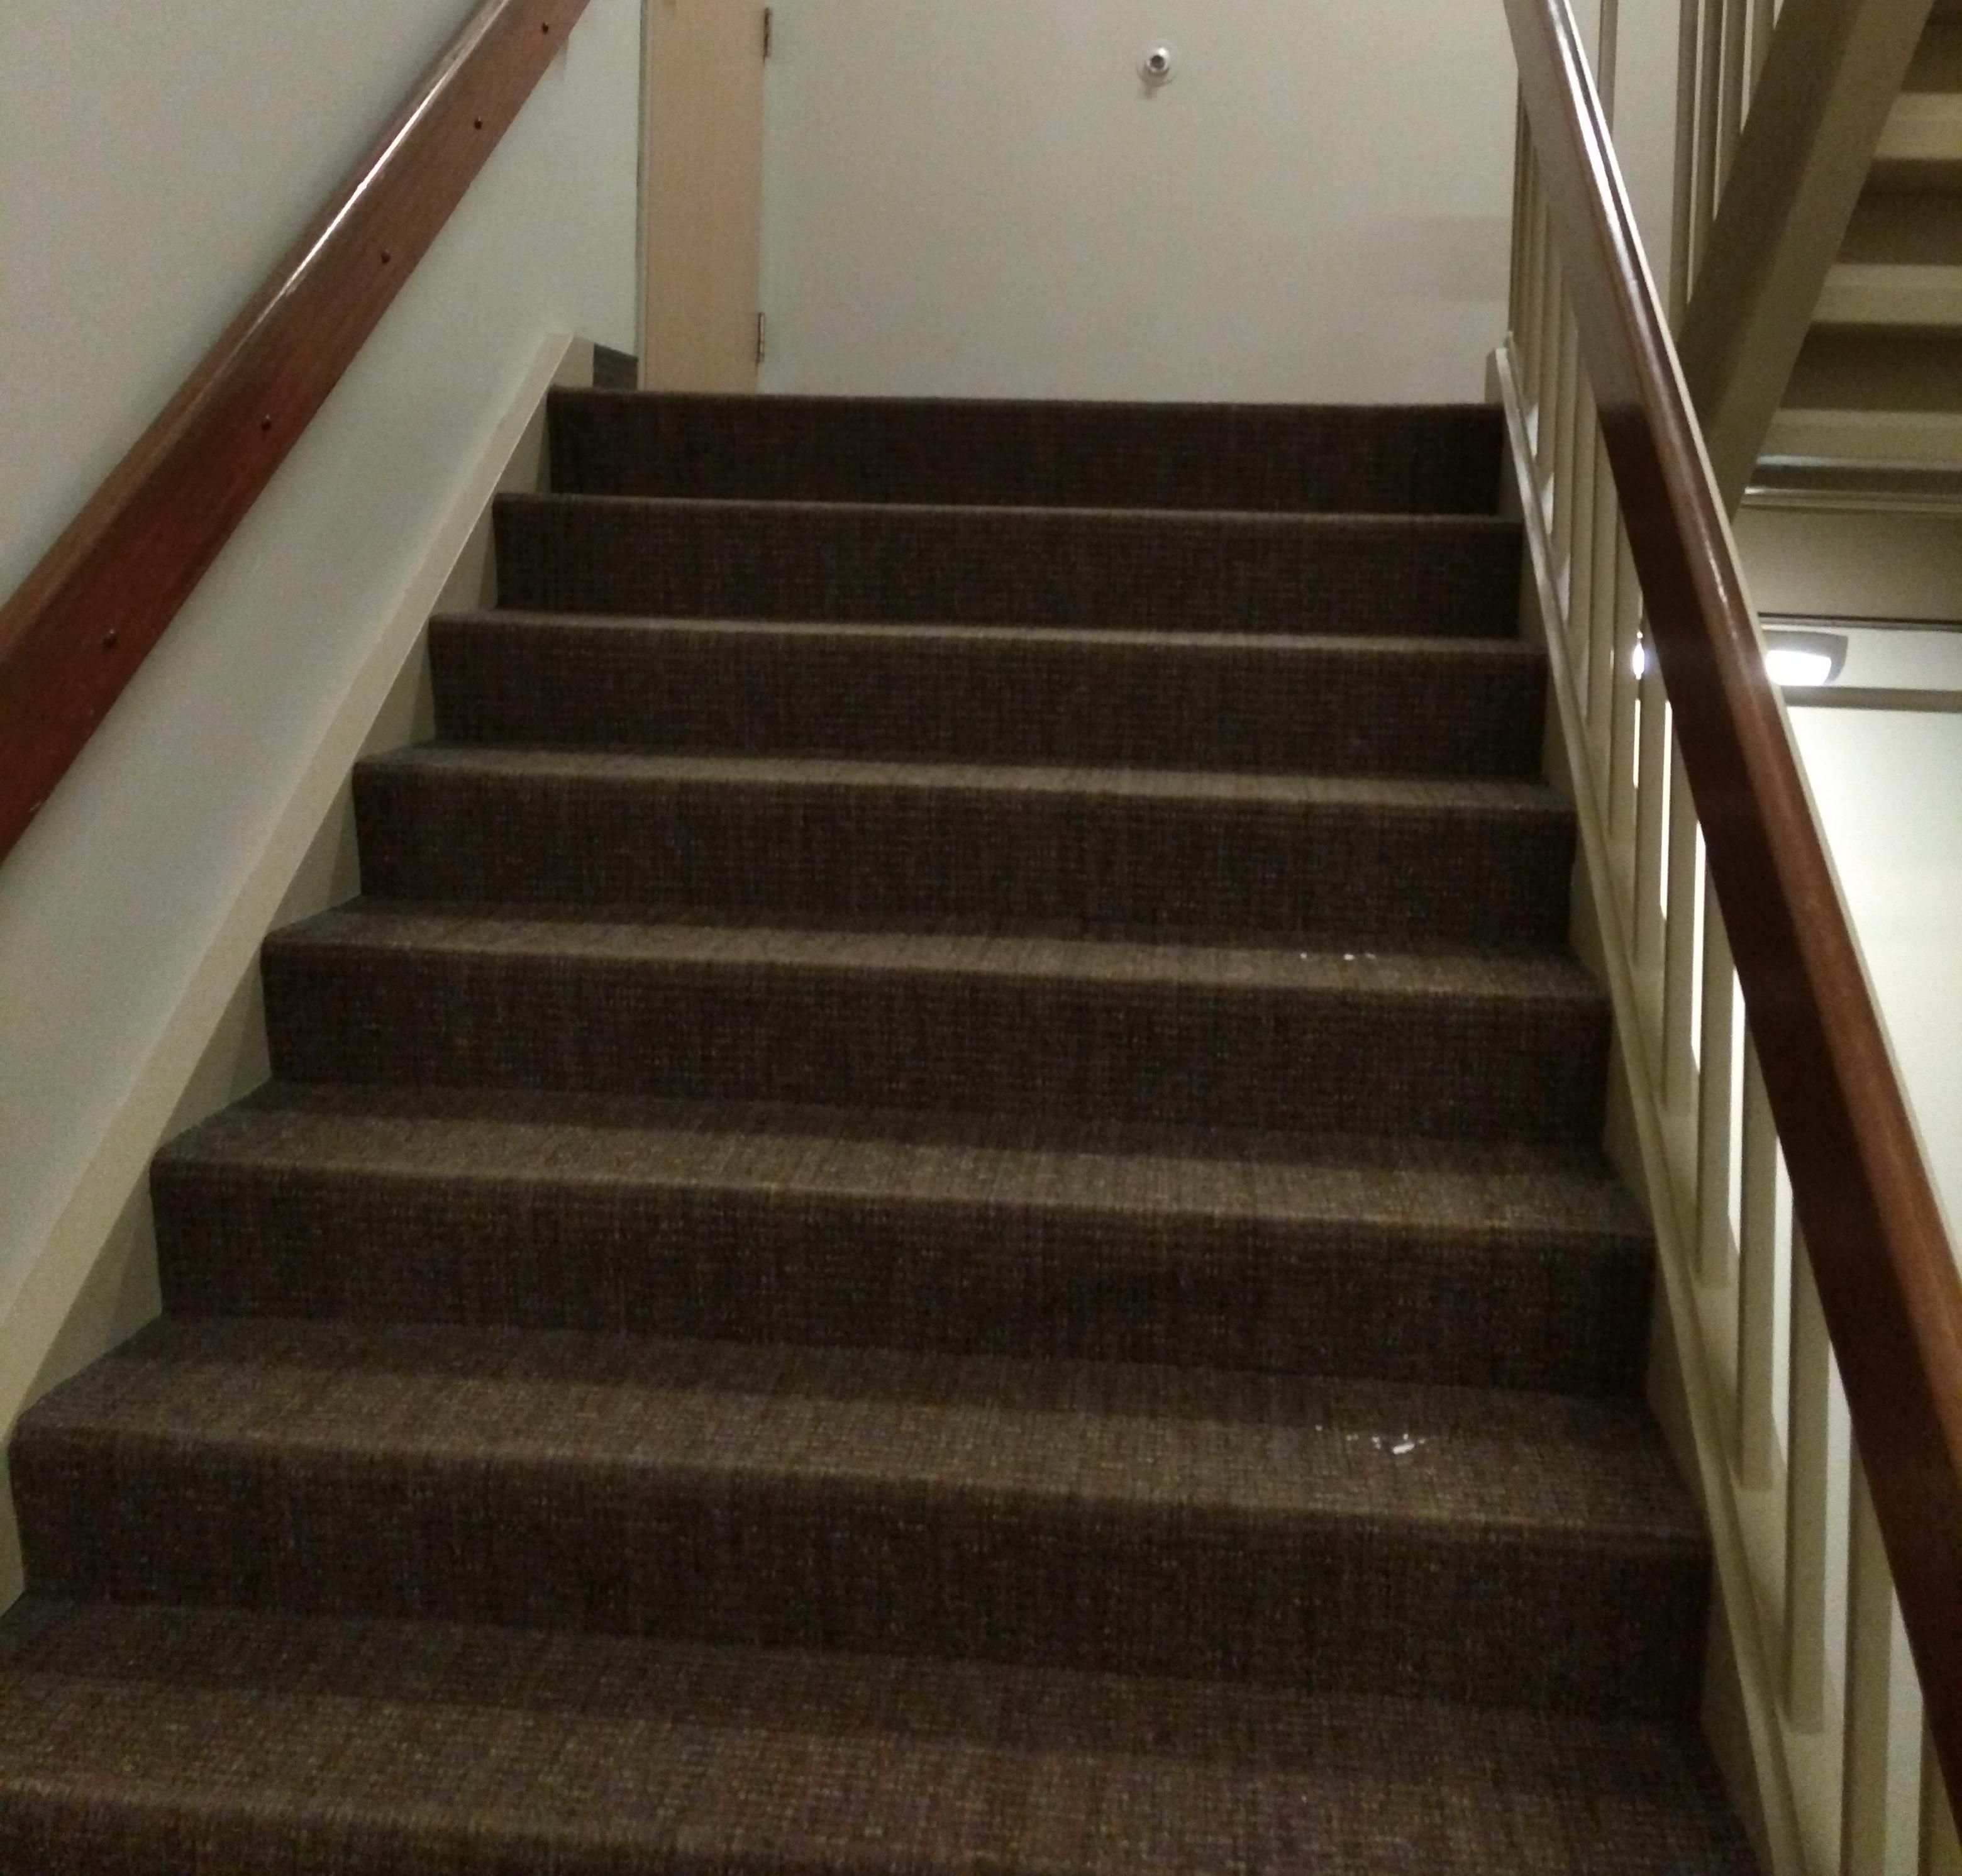stairs_up: (9, 364, 1717, 1680)
